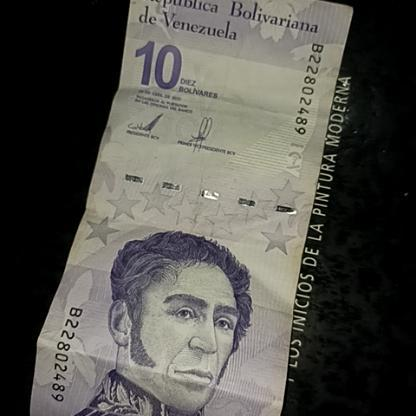ten-front-vef: (17, 0, 336, 416)
